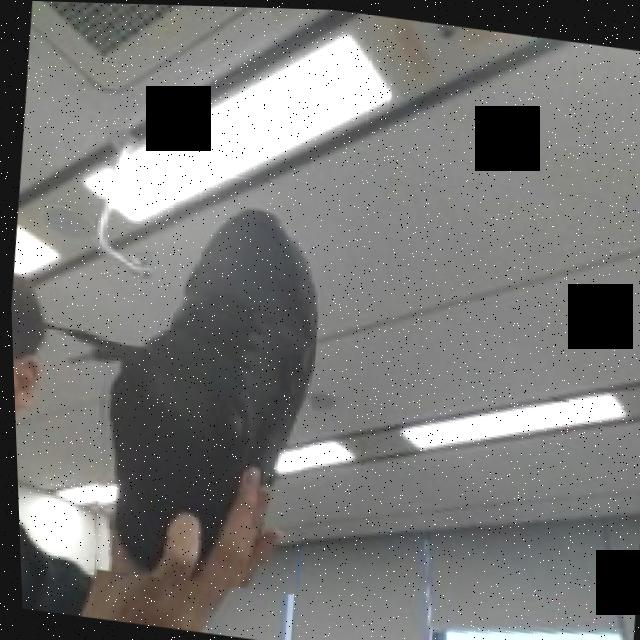shoe: (65, 188, 333, 595)
